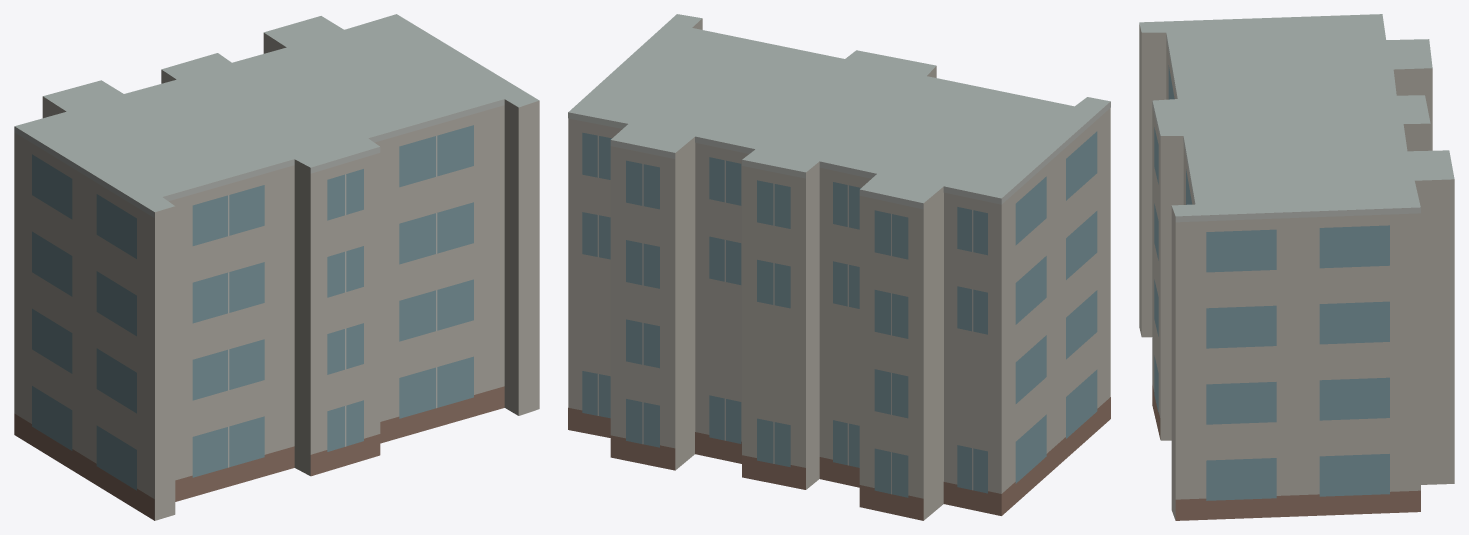
Rendered from survey-upis-32915897.glb.
3 renders of one model, left to right at view 1: azimuth 30°, elevation 25°; view 2: azimuth 150°, elevation 25°; view 3: azimuth 270°, elevation 25°, orthographic. The views are drawn at different scales.
Parts seen in each view (by area): view 1: survey-upis-32915897.tmp; view 2: survey-upis-32915897.tmp; view 3: survey-upis-32915897.tmp.
Boxes of the visible parts, box(x1,y1,x2,y2) form: survey-upis-32915897.tmp: box(14, 14, 539, 520); survey-upis-32915897.tmp: box(568, 14, 1110, 520); survey-upis-32915897.tmp: box(1139, 14, 1454, 520).
Bounding box in the file's own units: 17.83 × 12.5 × 11.74.
